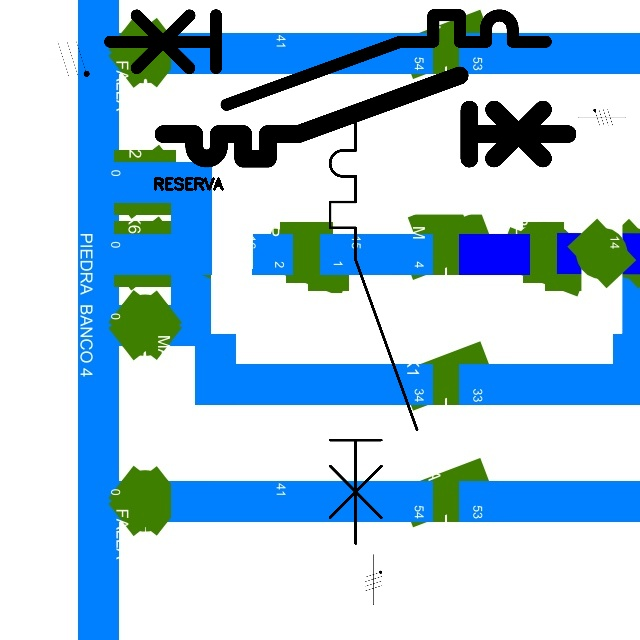interruptor_termomagnetico: (98, 4, 556, 116), (319, 107, 428, 554), (153, 65, 578, 169)
